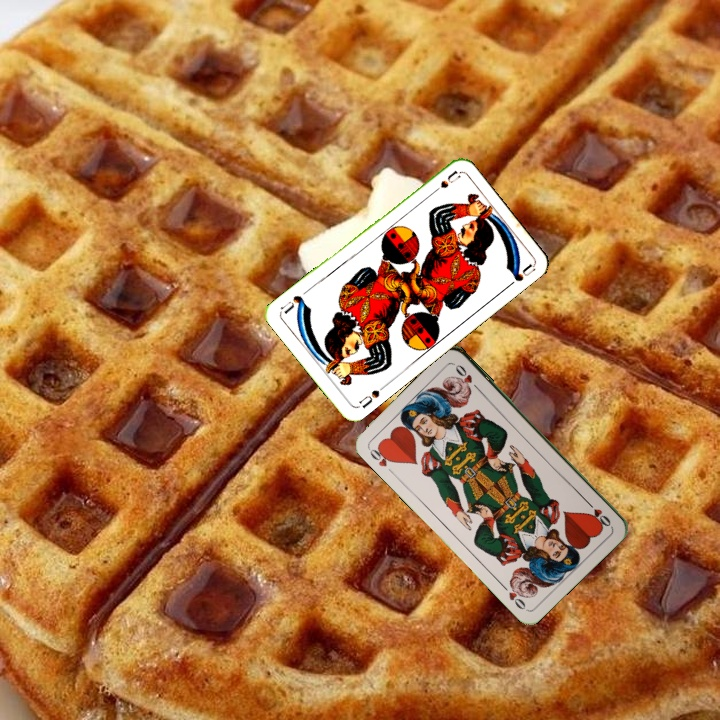HO: (582, 496, 613, 529), (364, 442, 397, 469)
SU: (426, 166, 463, 198), (355, 386, 382, 411)
